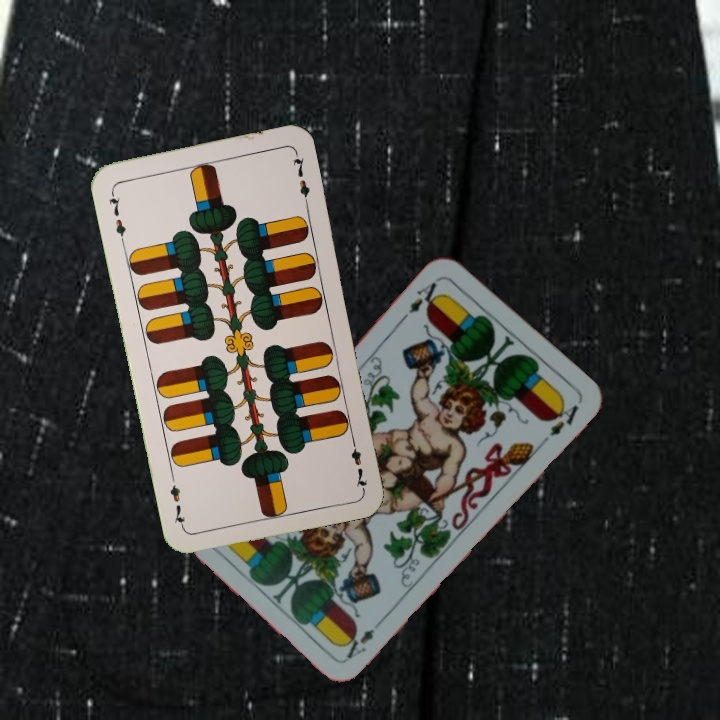E7: (105, 187, 129, 246), (346, 433, 370, 492)
EA: (339, 614, 386, 662), (404, 273, 445, 317)
